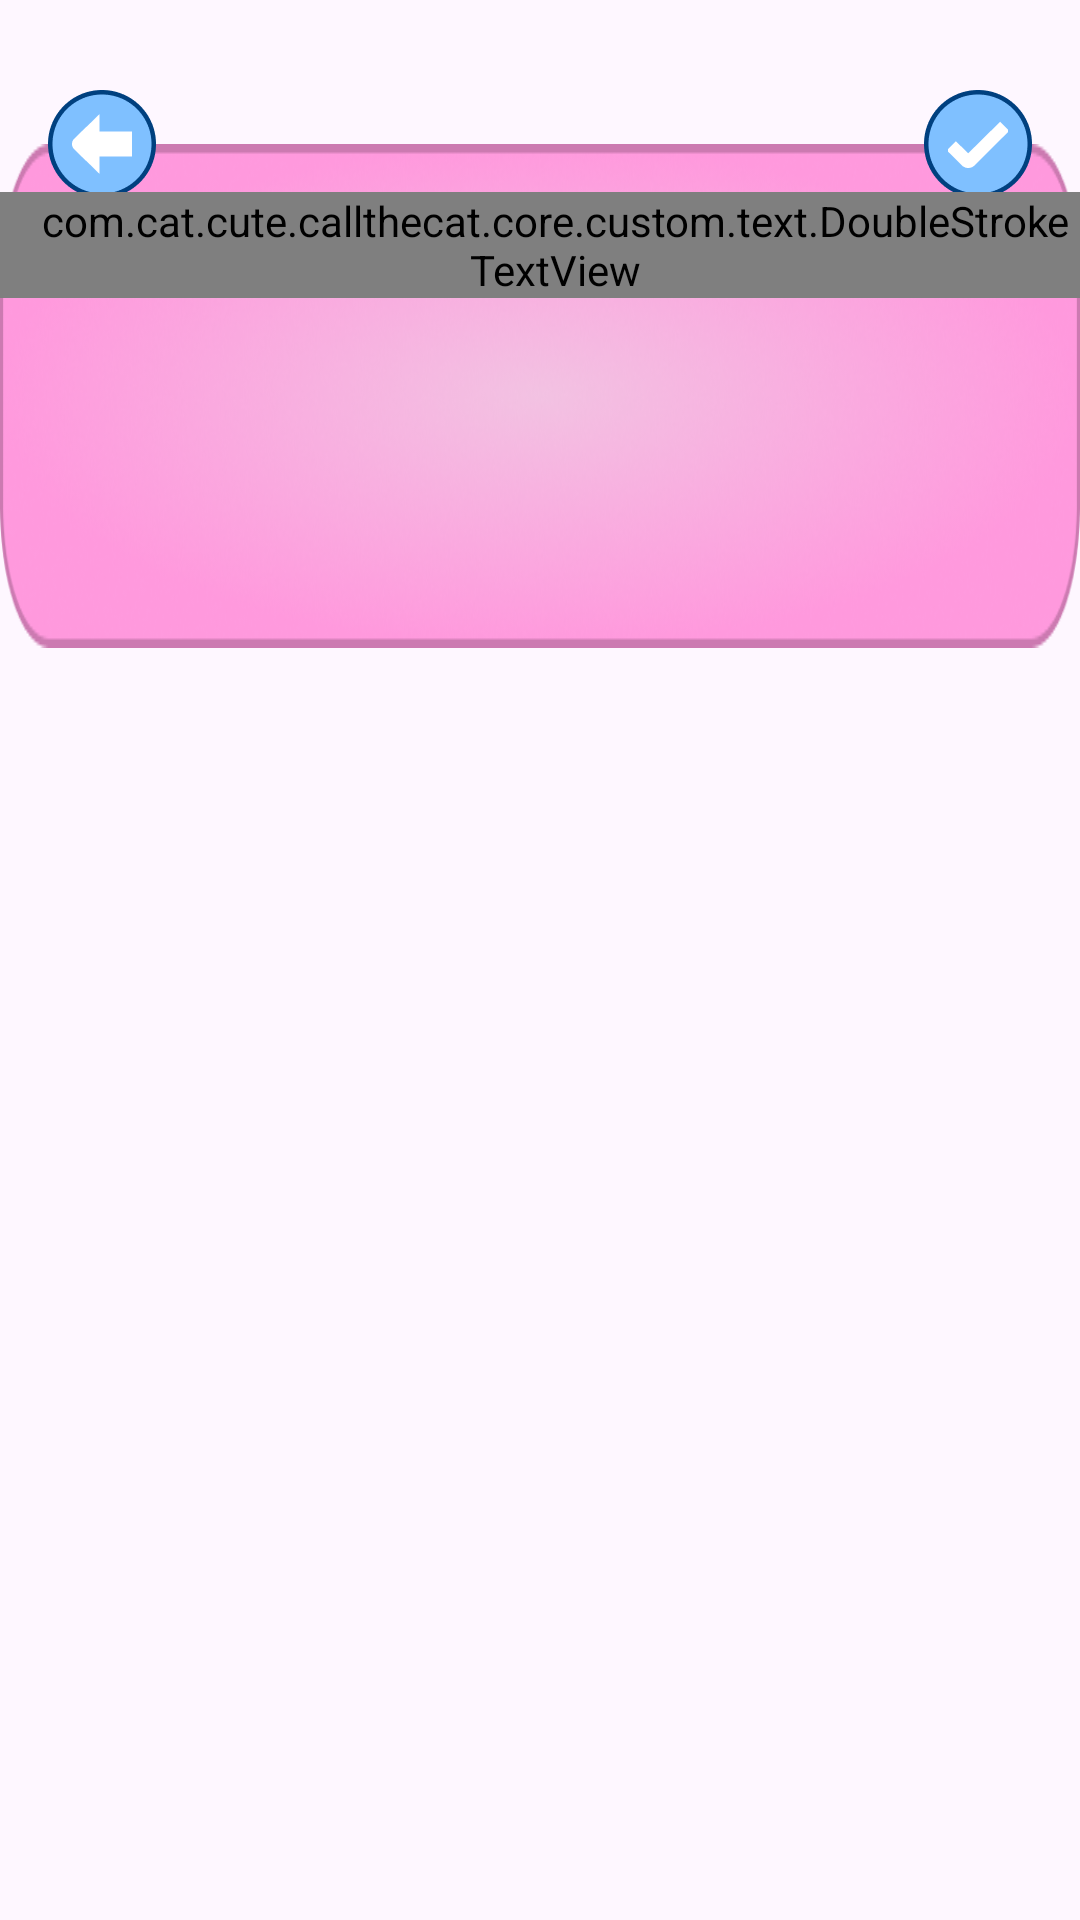

Named icons in this screenshot (1080w x 1920h) and their centers, point (x, y):
back: point (102, 144)
done lang: point (978, 144)
